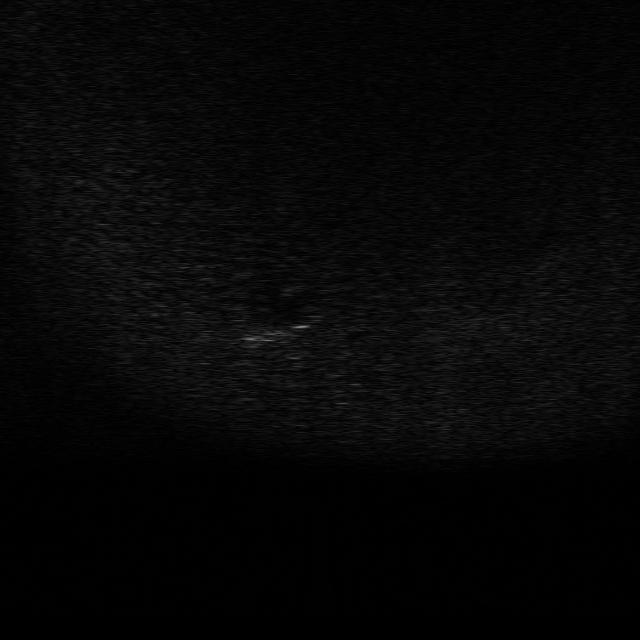plane: (235, 313, 309, 353)
